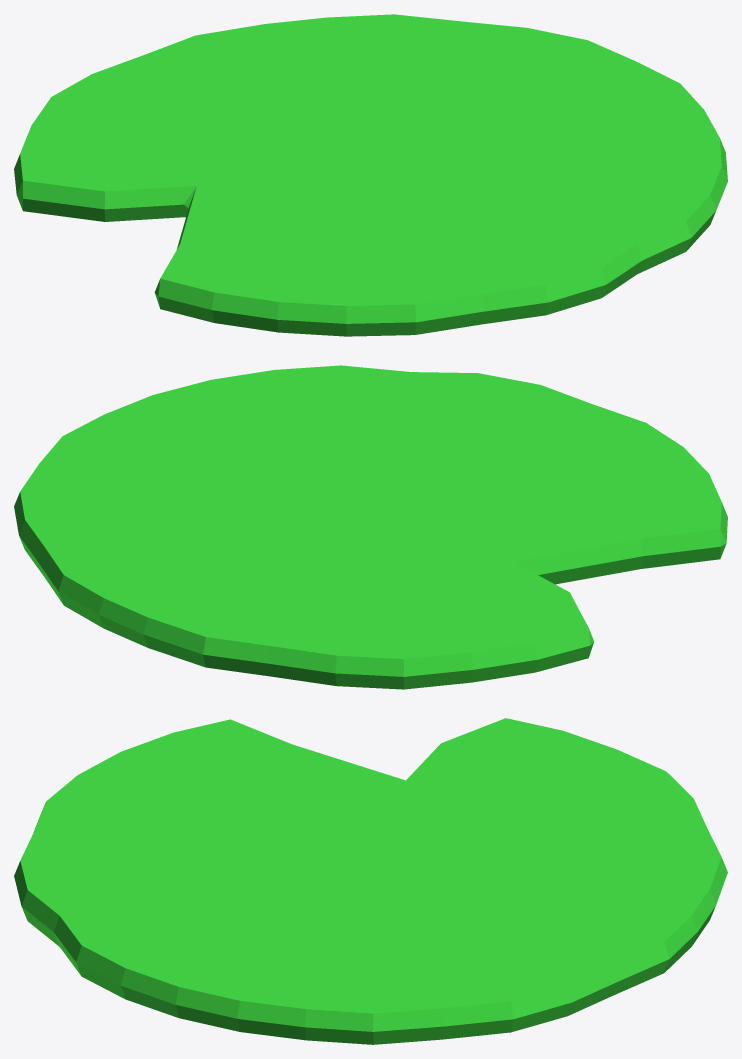
File: Lilypad.fbx
3 renders of one model, top to bottom at view 1: azimuth 30°, elevation 25°; view 2: azimuth 150°, elevation 25°; view 3: azimuth 270°, elevation 25°, orthographic. The views are drawn at different scales.
Visible parts, largest first — view 1: Circle; view 2: Circle; view 3: Circle.
Boxes of the visible parts, left/top/right/bottom form: Circle: left=14, top=14, right=727, bottom=336; Circle: left=14, top=365, right=727, bottom=689; Circle: left=14, top=718, right=727, bottom=1044.
Size of the model in its own units: 396 by 19.25 by 398.
